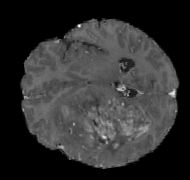Edema: (46, 89, 159, 164)
EnhancingTumors: (63, 97, 149, 146)
Necrosis: (63, 97, 151, 149)
